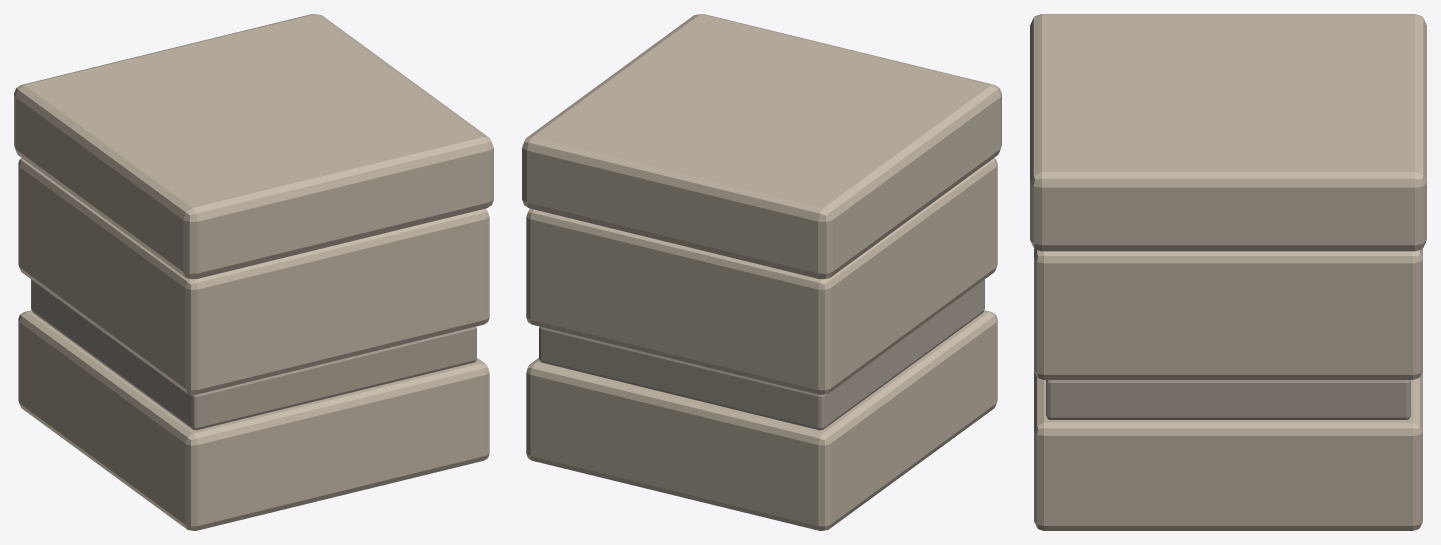
Rendered from stone_block.glb.
3 renders of one model, left to right at view 1: azimuth 30°, elevation 25°; view 2: azimuth 150°, elevation 25°; view 3: azimuth 270°, elevation 25°, orthographic. The views are drawn at different scales.
Visible parts, largest first — view 1: BlockCap, BlockUpper, BlockLower, BlockMortarBand; view 2: BlockCap, BlockUpper, BlockLower, BlockMortarBand; view 3: BlockCap, BlockUpper, BlockLower, BlockMortarBand.
Boxes of the visible parts, bbox=[...] form: BlockCap: bbox=[14, 14, 493, 279]; BlockUpper: bbox=[18, 158, 489, 394]; BlockLower: bbox=[18, 310, 489, 530]; BlockMortarBand: bbox=[31, 279, 476, 430]; BlockCap: bbox=[522, 14, 1001, 279]; BlockUpper: bbox=[526, 158, 997, 394]; BlockLower: bbox=[526, 310, 997, 530]; BlockMortarBand: bbox=[539, 279, 984, 430]; BlockCap: bbox=[1030, 14, 1426, 251]; BlockUpper: bbox=[1034, 248, 1422, 379]; BlockLower: bbox=[1034, 371, 1422, 530]; BlockMortarBand: bbox=[1046, 380, 1410, 419].
Bounding box in the file's own units: 1 × 1 × 1.
